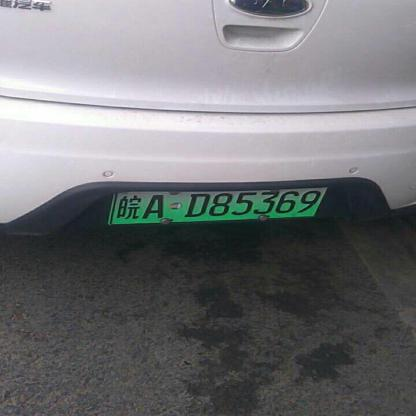lp: (110, 188, 327, 225)
